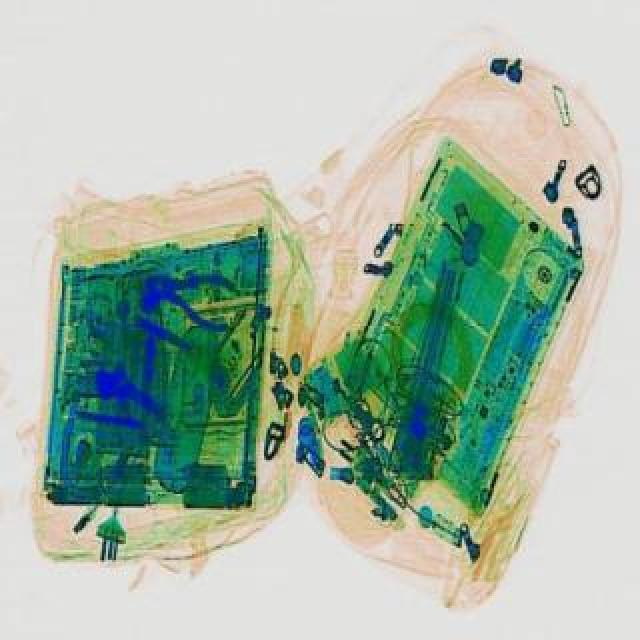scissors: (80, 358, 176, 432)
wrench: (136, 254, 246, 332)
